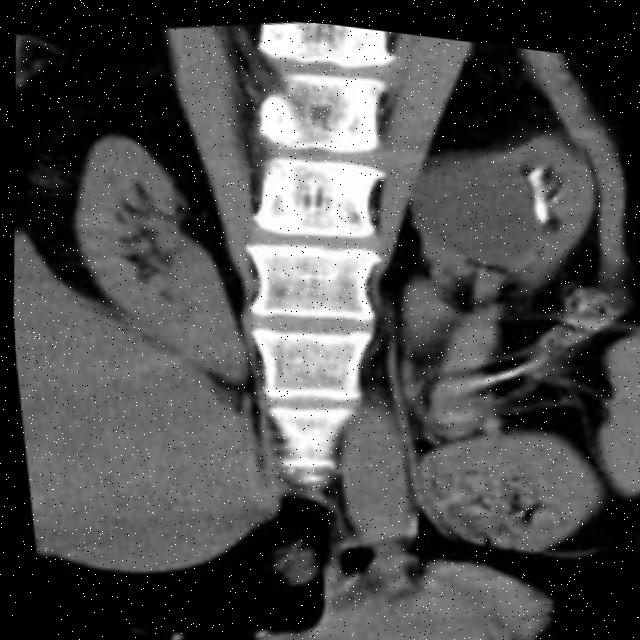Tas_Var: (515, 150, 553, 194), (526, 187, 553, 223), (545, 187, 565, 201)
